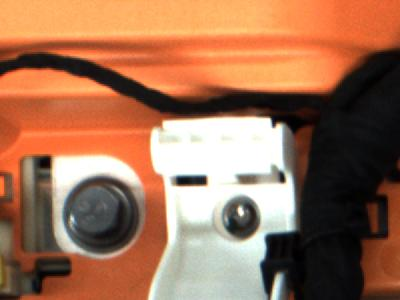nut_b: (58, 169, 149, 261)
